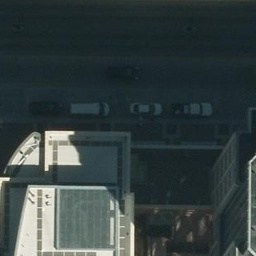car: (103, 59, 144, 82), (171, 94, 210, 115), (68, 102, 109, 119), (24, 102, 61, 117), (126, 100, 160, 115)
